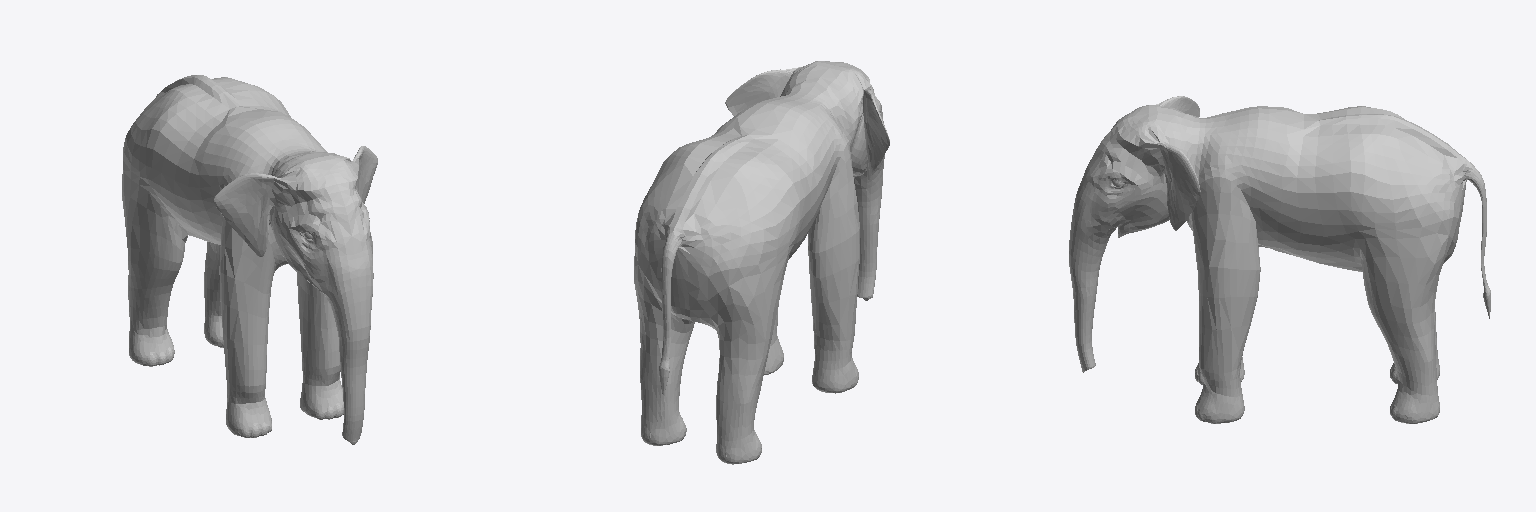
The model's file is ELE_AF3.OBJ.
The picture shows the model from 3 angles: view 1: azimuth 30°, elevation 25°; view 2: azimuth 150°, elevation 25°; view 3: azimuth 270°, elevation 25°; orthographic projection.
Parts seen in each view (by area): view 1: ele3_body; view 2: ele3_body; view 3: ele3_body.
Part boxes in pixels (left/top/right/bottom): ele3_body: left=122, top=75, right=377, bottom=444; ele3_body: left=634, top=61, right=889, bottom=464; ele3_body: left=1069, top=96, right=1490, bottom=423.
Size of the model in its own units: 0.9769 by 1.62 by 2.17.